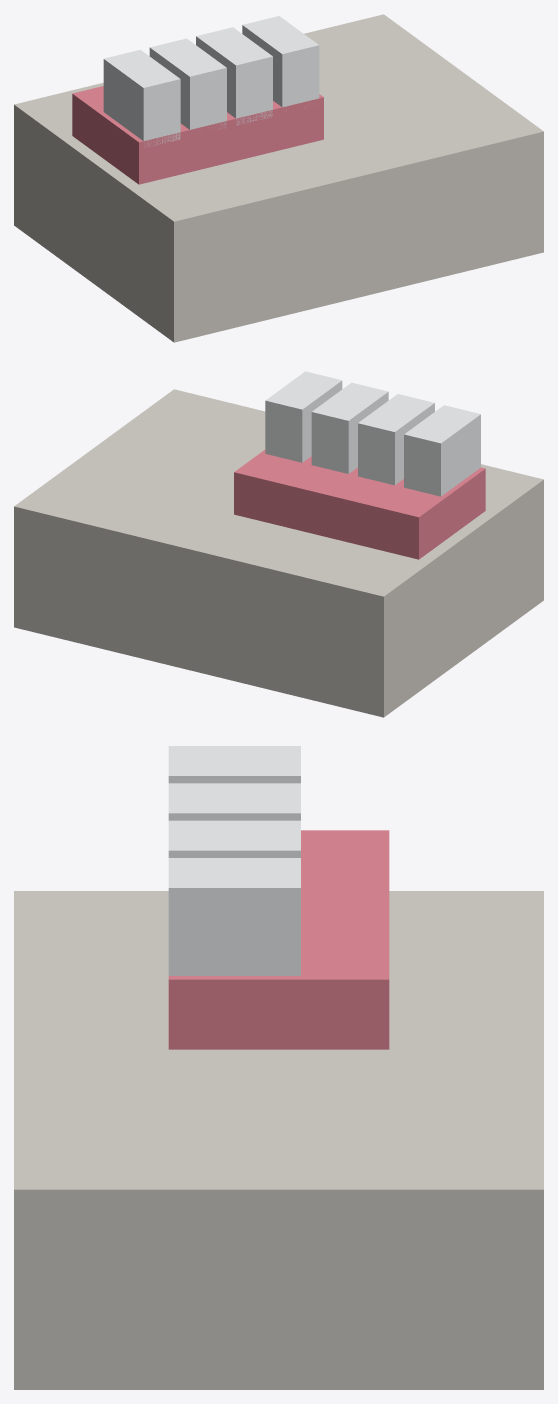
The model's file is half_mold.glb.
3 renders of one model, top to bottom at view 1: azimuth 30°, elevation 25°; view 2: azimuth 150°, elevation 25°; view 3: azimuth 270°, elevation 25°, orthographic. The views are drawn at different scales.
Parts seen in each view (by area): view 1: plaster_plaster_white, teeth_dental_white, teeth_gum_pink; view 2: plaster_plaster_white, teeth_dental_white, teeth_gum_pink; view 3: plaster_plaster_white, teeth_dental_white, teeth_gum_pink.
Part boxes in pixels (box(x1,y1,x2,y2)): plaster_plaster_white: box(14, 14, 543, 342); teeth_dental_white: box(103, 16, 319, 147); teeth_gum_pink: box(72, 86, 323, 184); plaster_plaster_white: box(14, 389, 543, 717); teeth_dental_white: box(265, 371, 480, 496); teeth_gum_pink: box(234, 450, 485, 559); plaster_plaster_white: box(14, 891, 543, 1389); teeth_dental_white: box(168, 746, 300, 975); teeth_gum_pink: box(168, 830, 389, 1049).
Bounding box in the file's own units: 0.16 × 0.0895 × 0.12.
